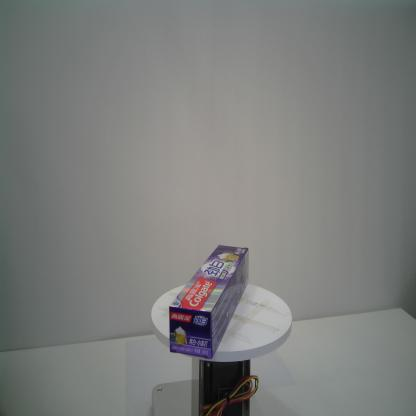Personal Hygiene: (168, 244, 250, 357)
